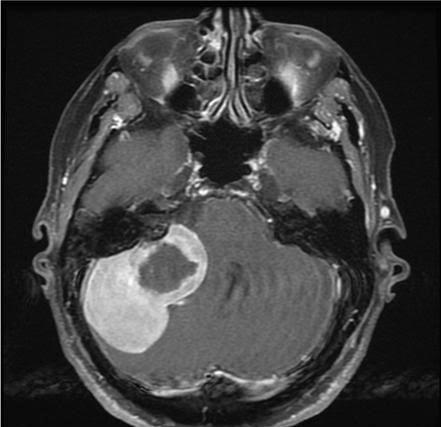Tumour-Meningioma: (73, 221, 226, 366)
